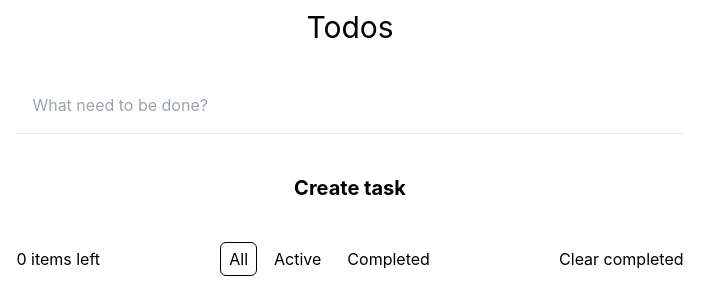
it: clear completed
Type "task1" into the field named "task-form-input" at x=350, y=105, box x1=16 y1=77 x2=684 y2=133
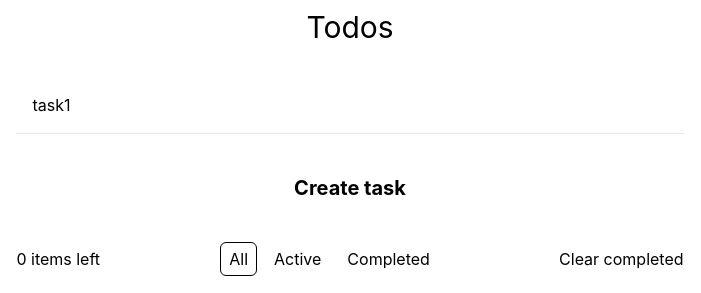
Submit the form named "task-form", box x1=16 y1=77 x2=684 y2=134
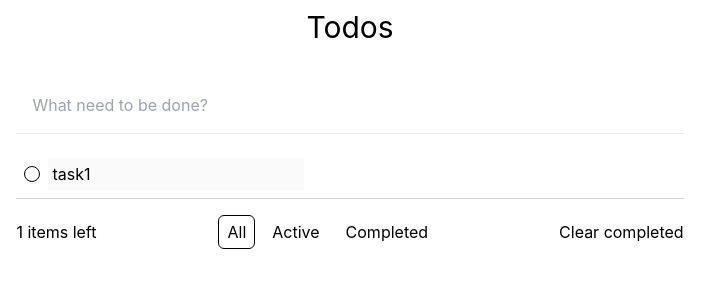
Click the element named "task-item" at x=350, y=174, box x1=16 y1=150 x2=684 y2=199
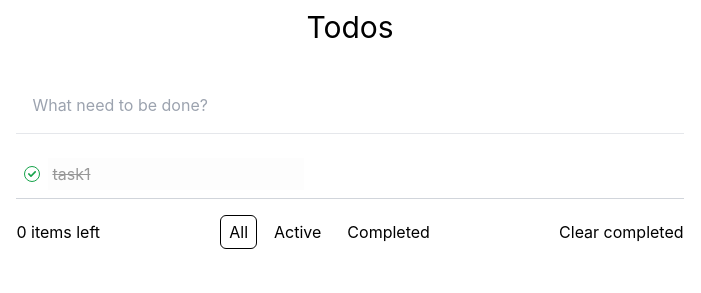
Click the button with aria-label "todo-clear" at x=621, y=232, box x1=559 y1=220 x2=684 y2=244
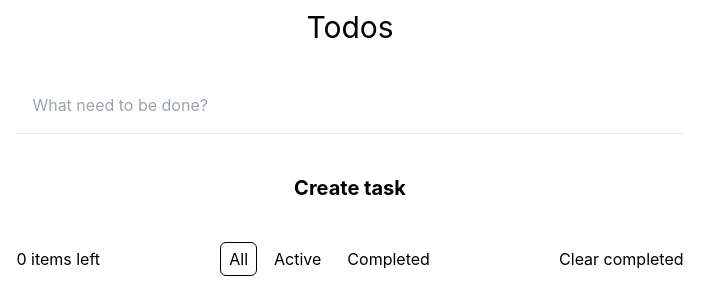
expect the field labelled "task-item" is gone: met
